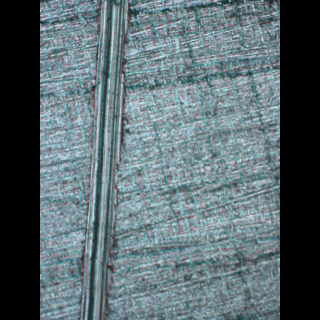d: (69, 0, 133, 319)
